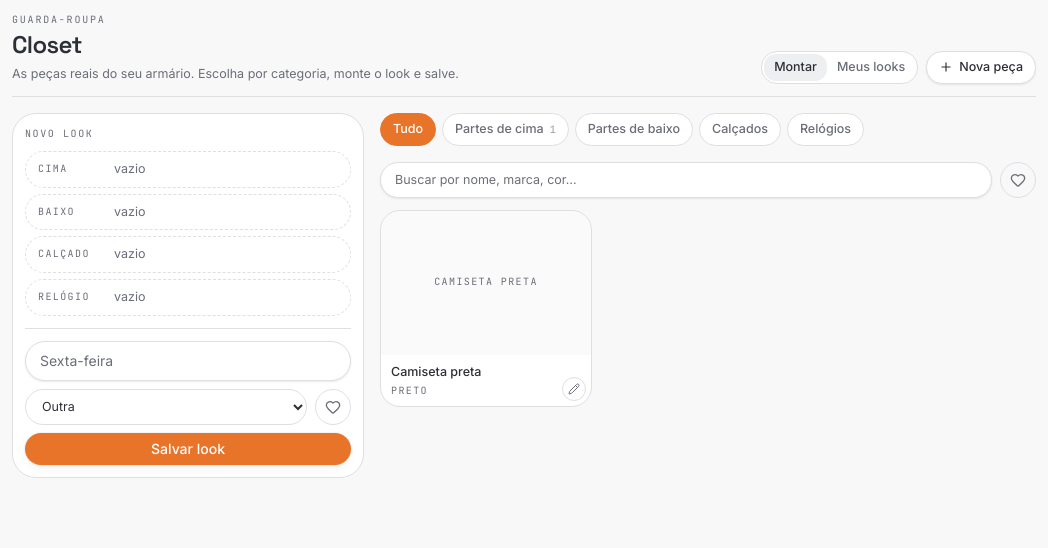
saving and reopening a look › surfaces a backend refusal instead of pretending the look was saved
The image size is (1048, 548).
Click the button "Camiseta preta Camiseta preta preto" at (486, 308), box 380,210 -> 592,407
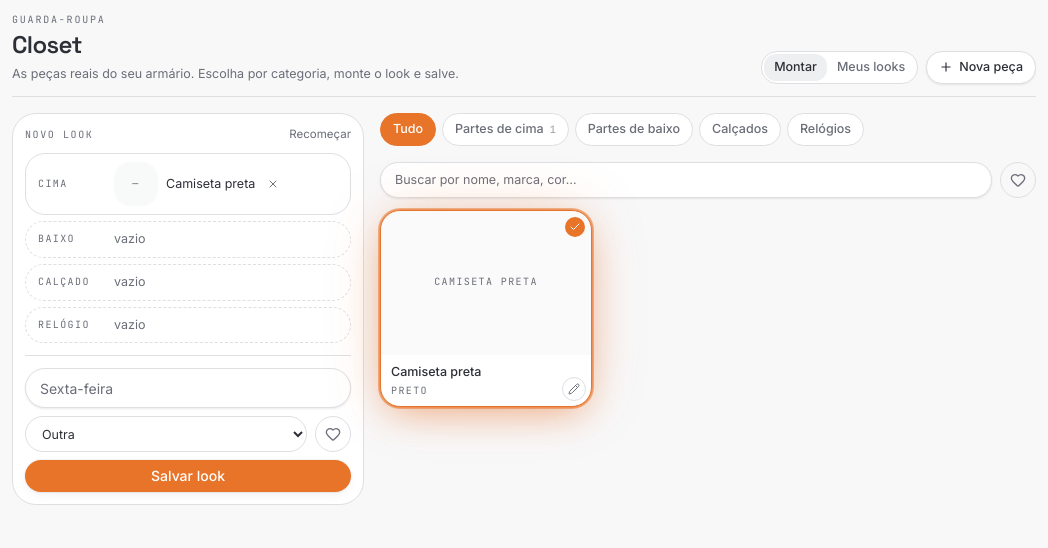
Type "Vai falhar" into the field named "Nome do look" at (188, 388), box 25,368 -> 351,408
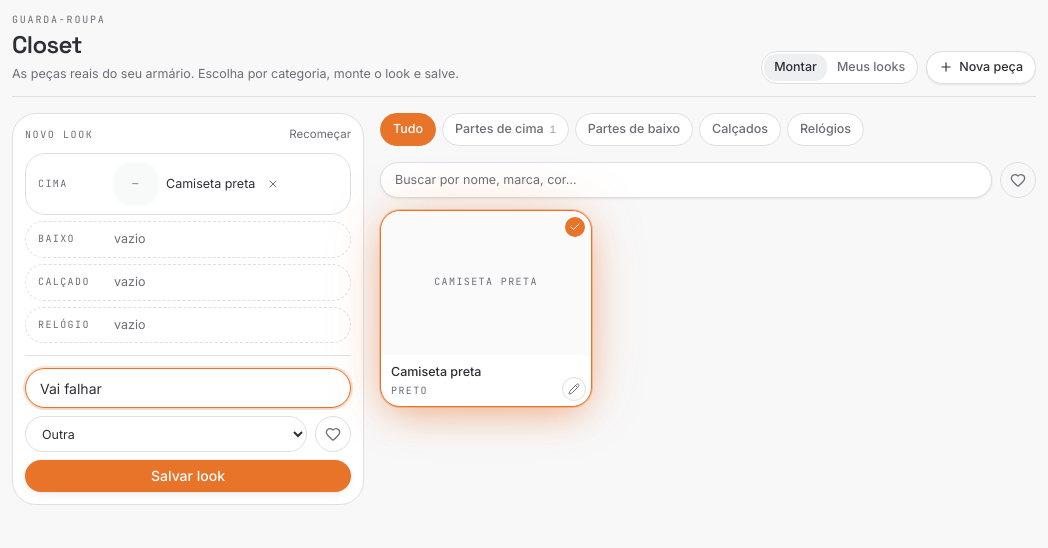
Click the button "Salvar look" at (188, 476), box 25,460 -> 351,492
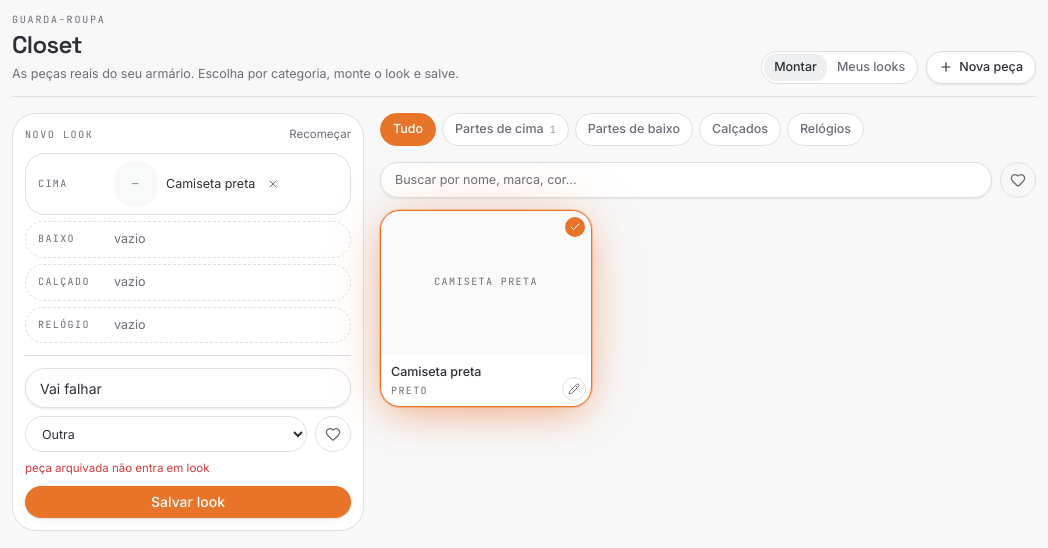
expect the text "peça arquivada não entra em look" is shown: met, box 25,461 -> 210,475
